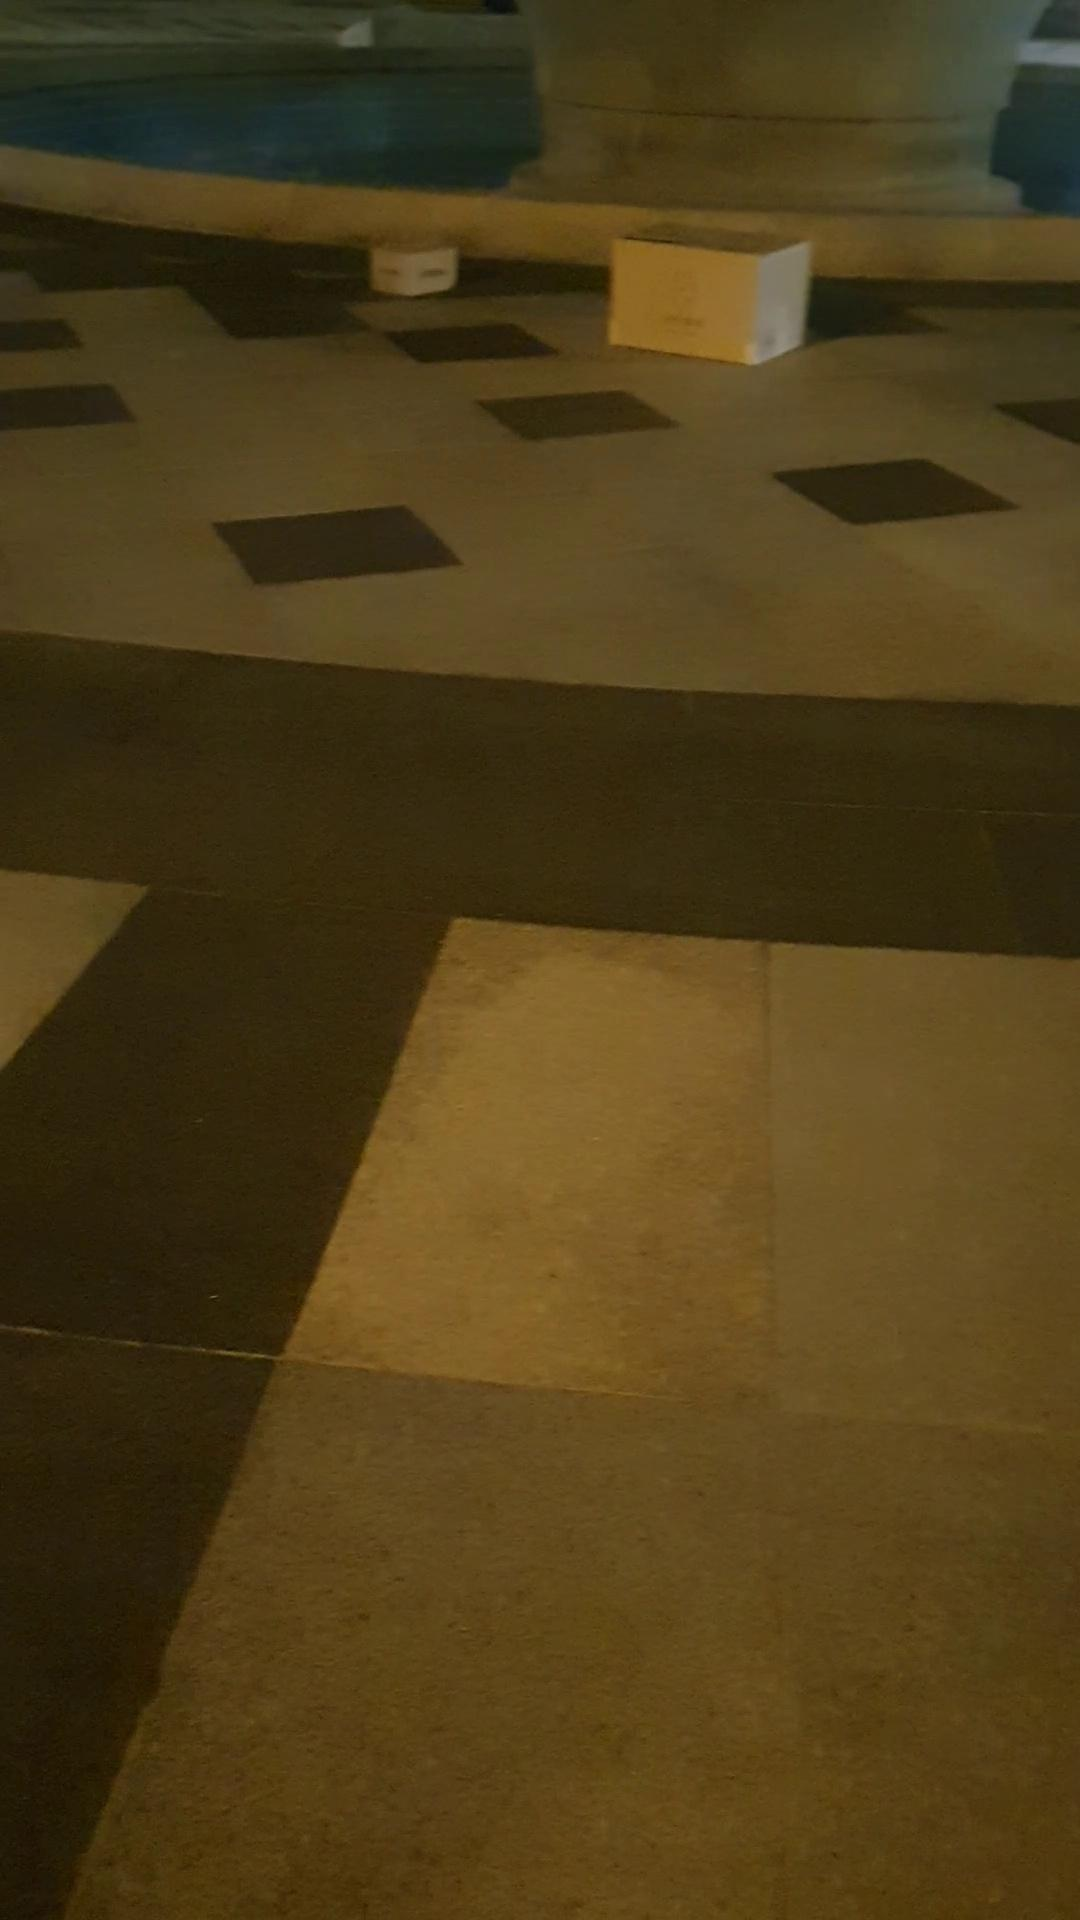Box: (596, 218, 822, 375), (361, 214, 458, 295)
